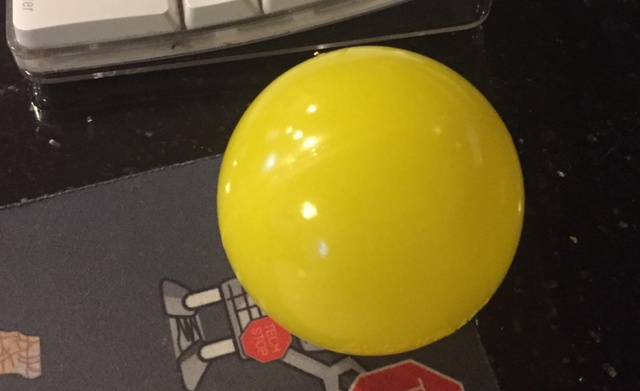ball: (219, 44, 526, 355)
